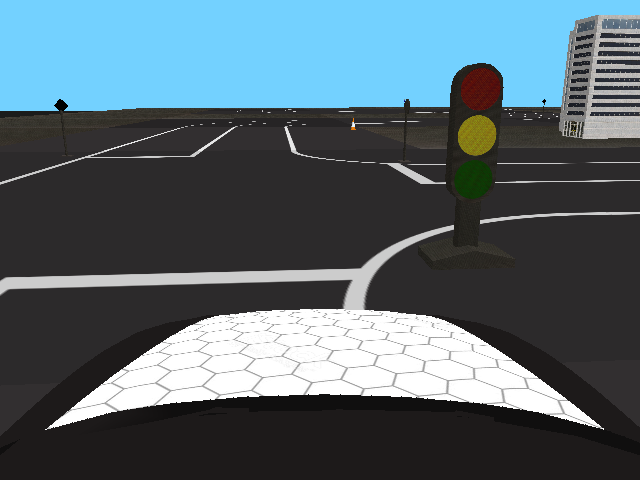yellow_light: (447, 61, 504, 201)
